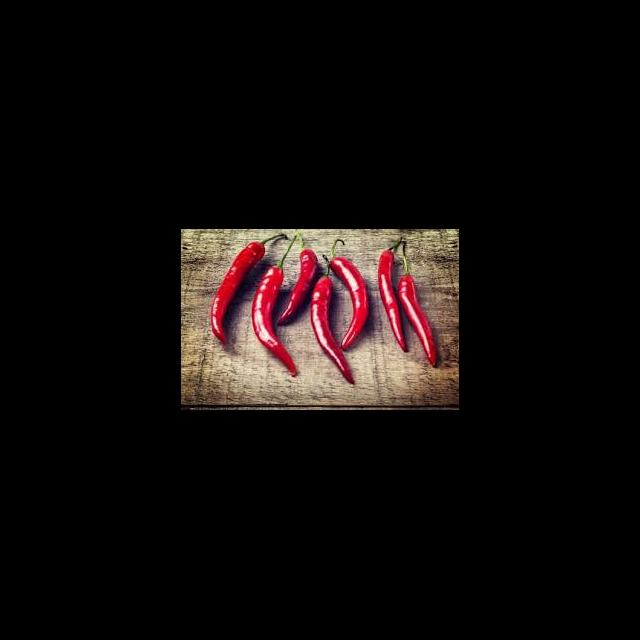chili_pepper: (210, 242, 265, 344), (252, 267, 300, 379), (308, 278, 356, 388), (329, 259, 371, 352), (397, 274, 439, 365), (275, 248, 318, 326), (377, 250, 406, 352)
